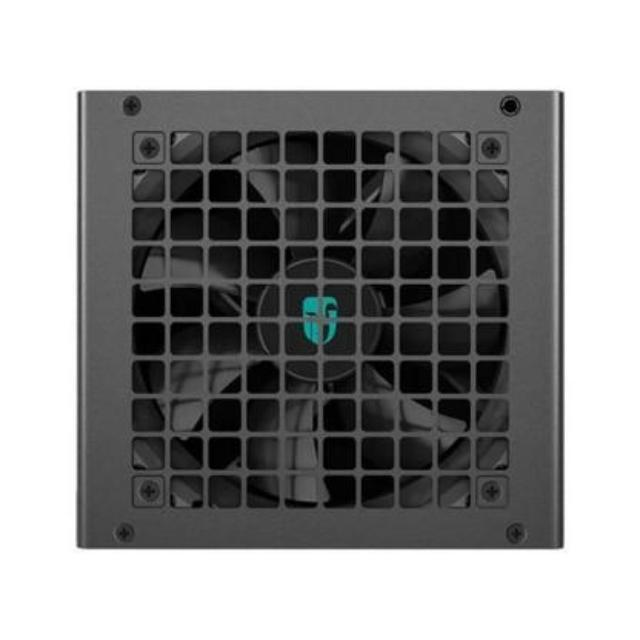PSU: (68, 74, 562, 566)
